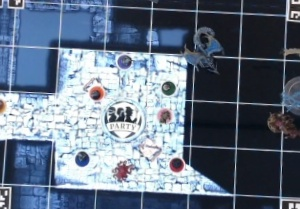blue: (69, 147, 93, 171)
green: (158, 79, 177, 97)
orange: (86, 80, 110, 102)
pink: (153, 106, 174, 125)
red: (163, 154, 185, 173)
violet: (112, 52, 135, 71)
yellow: (0, 95, 9, 113)
